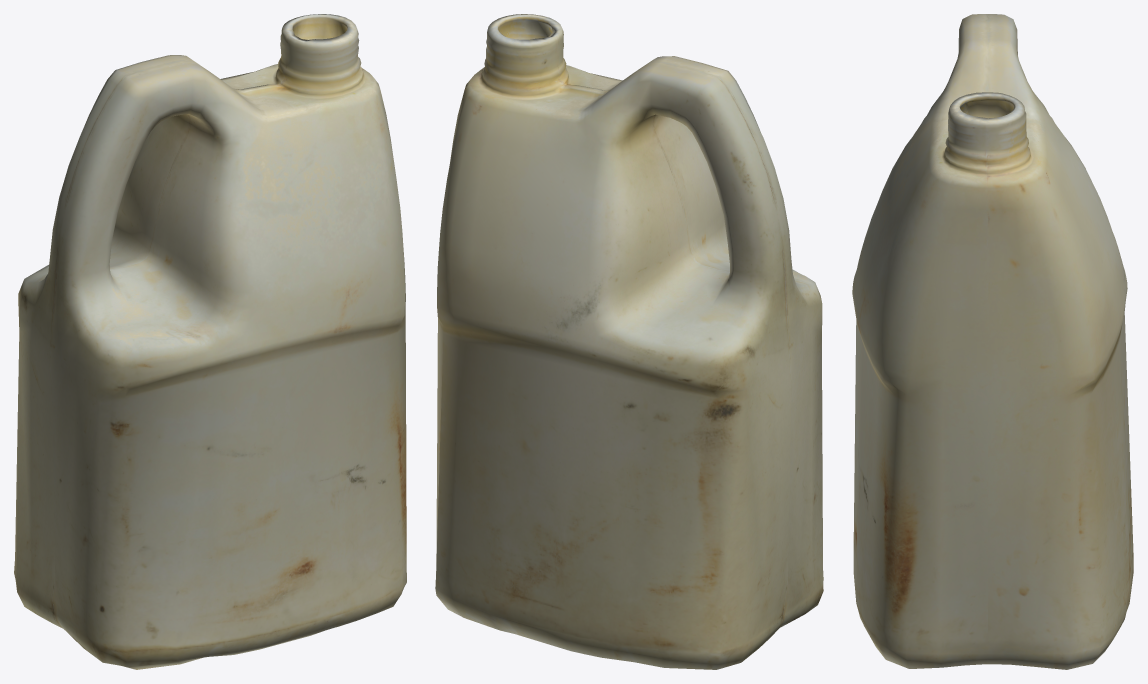
File: plastic_bottle_gallon_2k_low.fbx
3 views of the same model, side by side, from view 1: azimuth 30°, elevation 25°; view 2: azimuth 150°, elevation 25°; view 3: azimuth 270°, elevation 25° (orthographic).
Parts seen in each view (by area): view 1: plastic_bottle_gallon; view 2: plastic_bottle_gallon; view 3: plastic_bottle_gallon.
Part boxes in pixels (x1=…): plastic_bottle_gallon: x1=14, y1=14, x2=406, y2=669; plastic_bottle_gallon: x1=435, y1=14, x2=823, y2=669; plastic_bottle_gallon: x1=852, y1=14, x2=1133, y2=669.
Bounding box in the file's own units: 16.54 × 27.44 × 12.64.
Materials: 1 (1 with a texture image).
